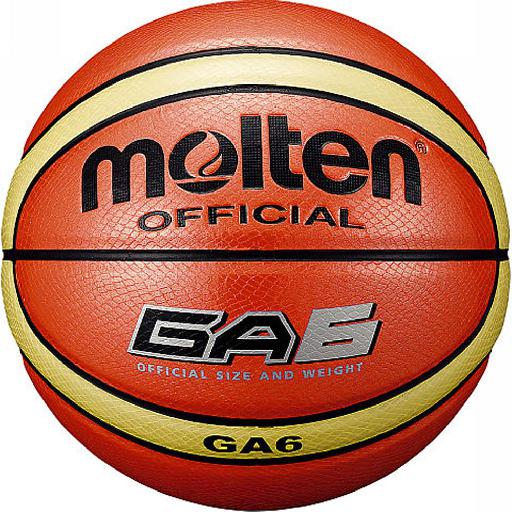ball: (2, 2, 509, 512)
